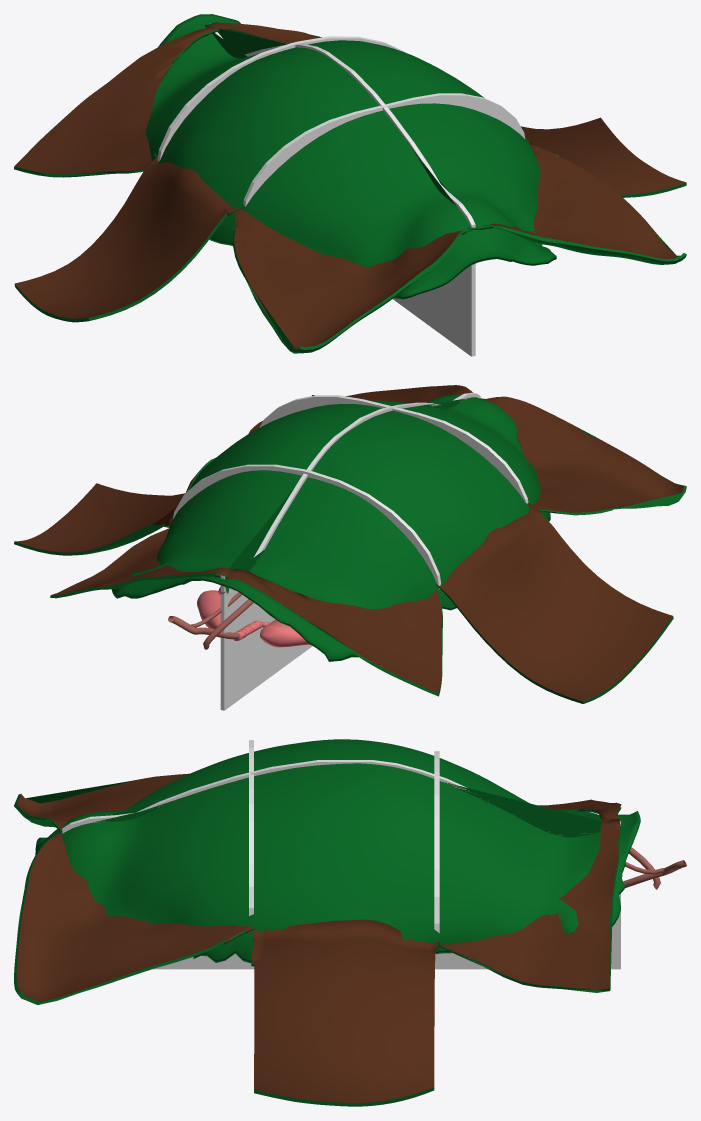
File: frog pieces.fbx
The picture shows the model from 3 angles, top to bottom: view 1: azimuth 30°, elevation 25°; view 2: azimuth 150°, elevation 25°; view 3: azimuth 270°, elevation 25°; orthographic projection. The views are drawn at different scales.
Visible parts, largest first — view 1: belly (sheet) remeshed sculpted thick copy, belly s2.001, belly s3.001, belly s1.001, belly d3.001, belly d2.001, cut1, cut3, belly (sheet) remeshed sculpted thick copy.001, cut2, belly d1.001, belly (sheet) remeshed sculpted thick copy.003 (+1 smaller); view 2: belly (sheet) remeshed sculpted thick copy, belly s2.001, belly s3.001, belly s1.001, belly d2.001, cut1, belly d1.001, cut3, cut2, belly (sheet) remeshed sculpted thick copy.001, 4 lungs, belly d3.001 (+3 smaller); view 3: belly (sheet) remeshed sculpted thick copy, belly d2.001, belly d3.001, belly d1.001, cut1, belly (sheet) remeshed sculpted thick copy.001, belly s3.001, belly (sheet) remeshed sculpted thick copy.003, belly (sheet) remeshed sculpted thick copy.002, cut2, cut3, belly s1.001.
Boxes of the visible parts, left/top/right/bottom form: belly (sheet) remeshed sculpted thick copy: left=146, top=14, right=556, bottom=299; belly s2.001: left=14, top=153, right=244, bottom=322; belly s3.001: left=233, top=209, right=471, bottom=353; belly s1.001: left=14, top=27, right=218, bottom=177; belly d3.001: left=467, top=143, right=686, bottom=264; belly d2.001: left=521, top=117, right=686, bottom=197; cut1: left=210, top=23, right=475, bottom=356; cut3: left=243, top=93, right=525, bottom=206; belly (sheet) remeshed sculpted thick copy.001: left=212, top=29, right=481, bottom=236; cut2: left=157, top=36, right=405, bottom=161; belly d1.001: left=205, top=22, right=321, bottom=44; belly (sheet) remeshed sculpted thick copy.003: left=217, top=29, right=530, bottom=233; belly (sheet) remeshed sculpted thick copy: left=111, top=394, right=550, bottom=661; belly s2.001: left=434, top=503, right=673, bottom=703; belly s3.001: left=483, top=396, right=686, bottom=515; belly s1.001: left=225, top=568, right=442, bottom=696; belly d2.001: left=14, top=458, right=215, bottom=555; cut1: left=220, top=392, right=480, bottom=710; belly d1.001: left=50, top=528, right=229, bottom=598; cut3: left=259, top=395, right=528, bottom=503; cut2: left=173, top=464, right=440, bottom=589; belly (sheet) remeshed sculpted thick copy.001: left=219, top=396, right=482, bottom=579; 4 lungs: left=197, top=590, right=310, bottom=647; belly d3.001: left=248, top=385, right=483, bottom=433; belly (sheet) remeshed sculpted thick copy: left=35, top=739, right=640, bottom=963; belly d2.001: left=251, top=919, right=439, bottom=1106; belly d3.001: left=14, top=830, right=253, bottom=1004; belly d1.001: left=439, top=819, right=620, bottom=992; cut1: left=62, top=760, right=620, bottom=969; belly (sheet) remeshed sculpted thick copy.001: left=56, top=756, right=620, bottom=840; belly s3.001: left=14, top=773, right=189, bottom=831; belly (sheet) remeshed sculpted thick copy.003: left=62, top=750, right=601, bottom=923; belly (sheet) remeshed sculpted thick copy.002: left=97, top=755, right=603, bottom=950; cut2: left=434, top=751, right=439, bottom=932; cut3: left=249, top=740, right=253, bottom=915; belly s1.001: left=538, top=799, right=621, bottom=821.
Bounding box in the file's own units: 31.53 × 9.89 × 29.09.
